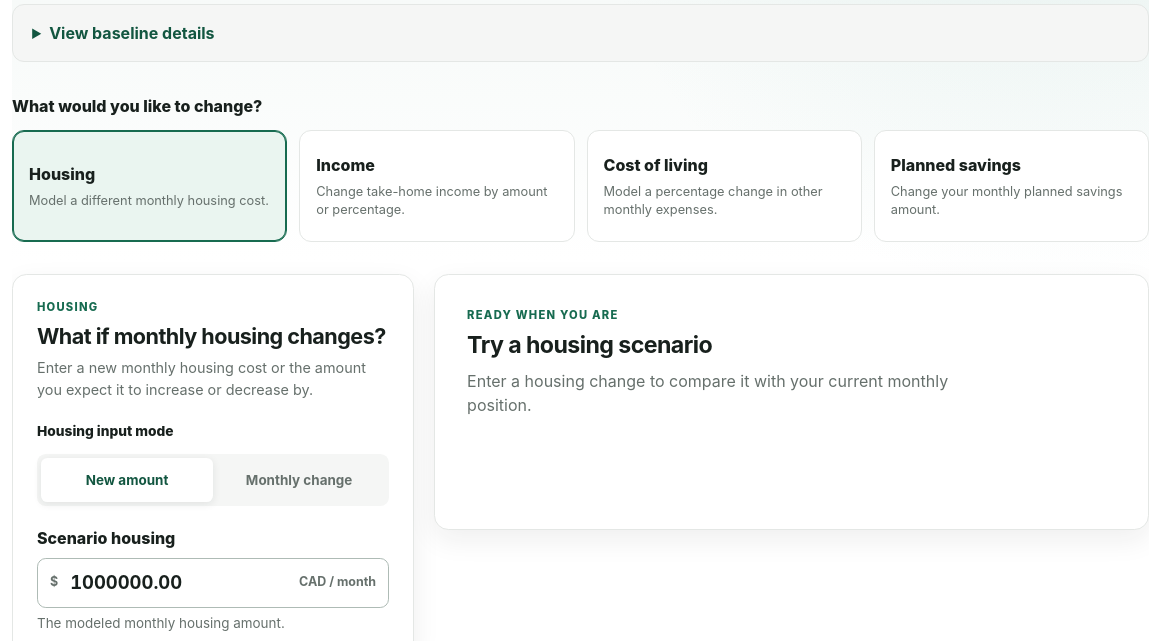
ScenarioLab › preserves zero, deficit, savings-above-surplus, decimal, and large-value states
(page scrolled)
Replace the text in the field labelled "Scenario housing" with "999999.99" at (179, 583), box [70, 559, 287, 607]
(page scrolled)
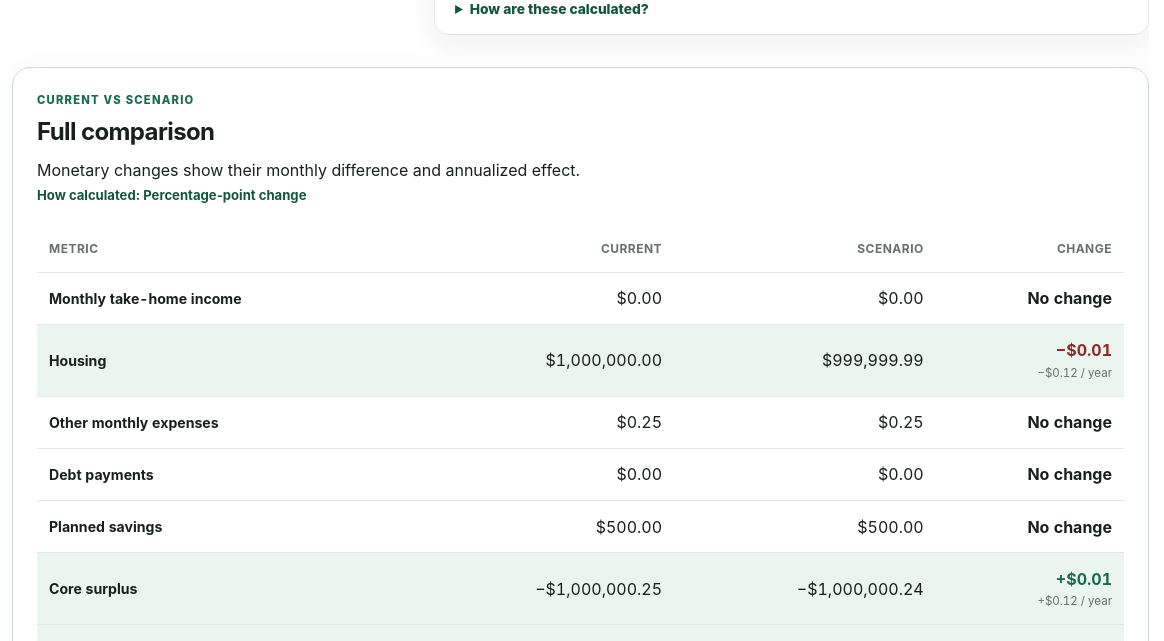
Now the text "$999,999.99" is shown, box [674, 324, 936, 396]
